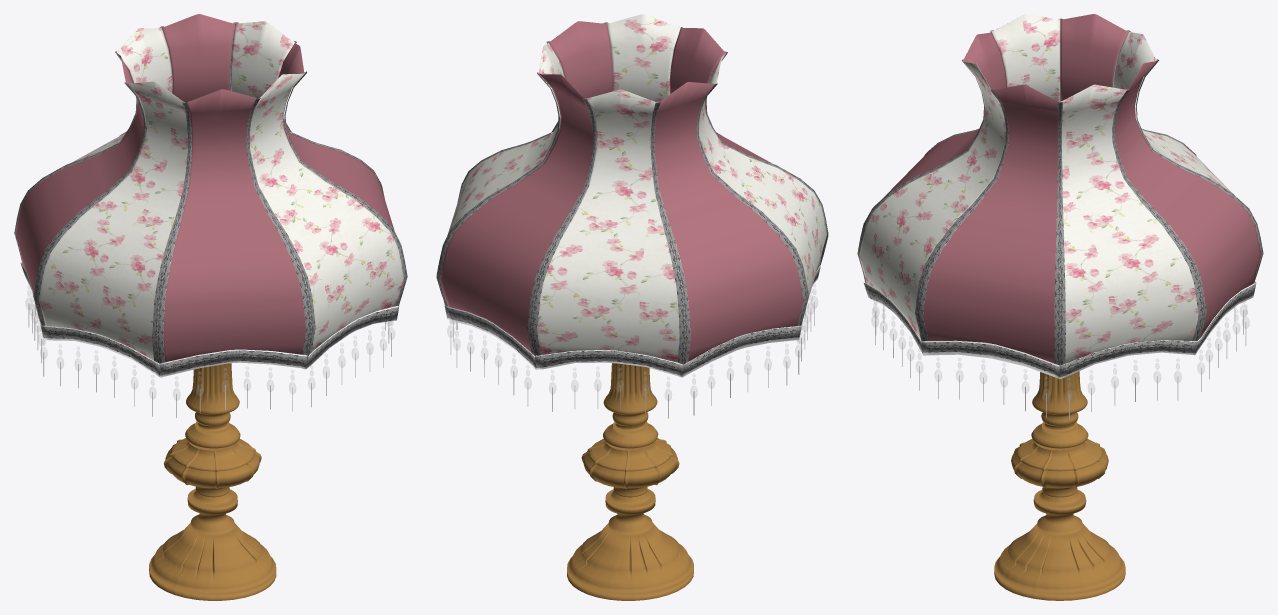
3 renders of one model, left to right at view 1: azimuth 30°, elevation 25°; view 2: azimuth 150°, elevation 25°; view 3: azimuth 270°, elevation 25°, orthographic.
Visible parts, largest first — view 1: Shade, Lamp Stick, bOTTOM TRIM, Trim.002, Trim.001, Trim.003, Trim, Trim.004; view 2: Shade, Lamp Stick, bOTTOM TRIM, Trim.004, Trim.005, Trim.003, Trim.006, Trim.002; view 3: Shade, Lamp Stick, bOTTOM TRIM, Trim.007, Trim, Trim.006, Trim.005, Trim.001.
Part boxes in pixels (bbox=[...]): Shade: bbox=[15, 14, 403, 375]; Lamp Stick: bbox=[149, 363, 276, 600]; bOTTOM TRIM: bbox=[20, 262, 399, 377]; Trim.002: bbox=[152, 102, 191, 365]; Trim.001: bbox=[246, 98, 315, 365]; Trim.003: bbox=[33, 82, 145, 325]; Trim: bbox=[284, 71, 407, 305]; Trim.004: bbox=[14, 51, 137, 267]; Shade: bbox=[439, 14, 827, 362]; Lamp Stick: bbox=[567, 363, 693, 600]; bOTTOM TRIM: bbox=[443, 265, 820, 377]; Trim.004: bbox=[650, 102, 690, 368]; Trim.005: bbox=[527, 98, 596, 355]; Trim.003: bbox=[696, 83, 808, 325]; Trim.006: bbox=[436, 72, 559, 306]; Trim.002: bbox=[705, 51, 828, 265]; Shade: bbox=[859, 14, 1261, 363]; Lamp Stick: bbox=[994, 371, 1125, 600]; bOTTOM TRIM: bbox=[864, 280, 1256, 379]; Trim.007: bbox=[1054, 101, 1065, 365]; Trim: bbox=[915, 90, 1008, 341]; Trim.006: bbox=[1112, 89, 1206, 340]; Trim.005: bbox=[1136, 59, 1263, 283]; Trim.001: bbox=[857, 59, 984, 283].
Bounding box in the file's own units: 0.8797 × 1.25 × 0.8771.
Materials: 8 (2 with a texture image).
